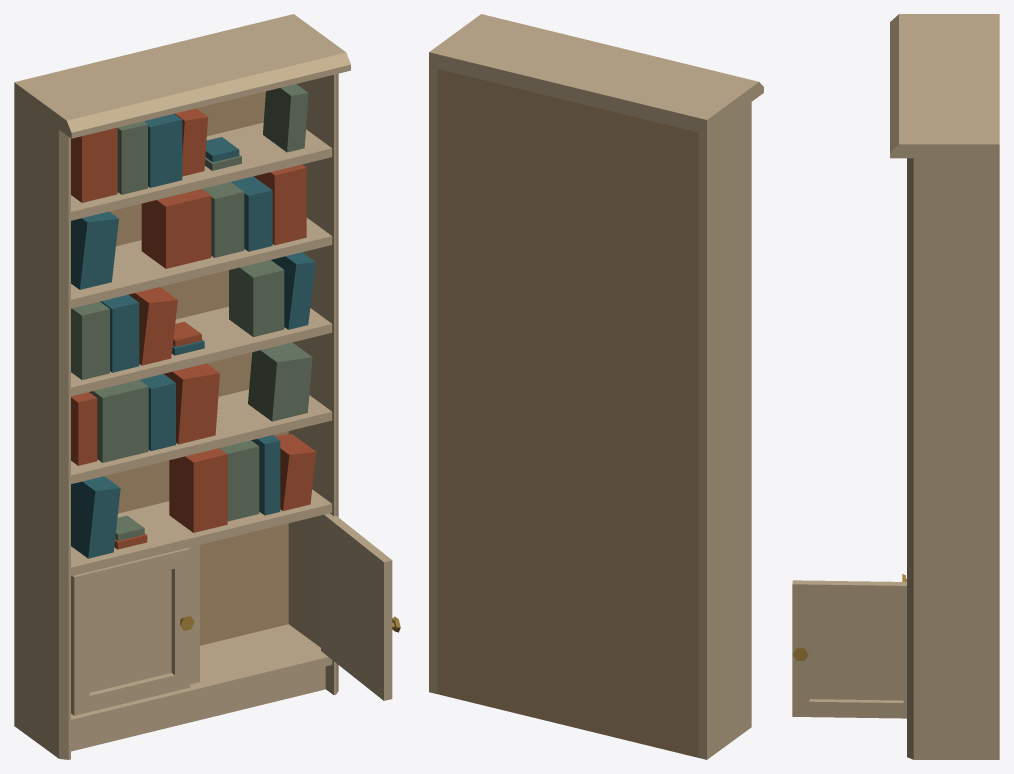
File: alcove-bookcase-83894d.glb
3 renders of one model, left to right at view 1: azimuth 30°, elevation 25°; view 2: azimuth 150°, elevation 25°; view 3: azimuth 270°, elevation 25°, orthographic. The views are drawn at different scales.
Parts seen in each view (by area): view 1: alcove-bookcase, books, door-l, door-r; view 2: alcove-bookcase; view 3: alcove-bookcase, door-r.
Part boxes in pixels (left/top/right/bottom): alcove-bookcase: left=14, top=14, right=350, bottom=759; books: left=71, top=84, right=316, bottom=558; door-l: left=71, top=548, right=194, bottom=715; door-r: left=321, top=513, right=400, bottom=700; alcove-bookcase: left=429, top=14, right=763, bottom=759; alcove-bookcase: left=890, top=14, right=999, bottom=759; door-r: left=792, top=580, right=906, bottom=718.
Bounding box in the file's own units: 1 × 2.2 × 0.6708.
